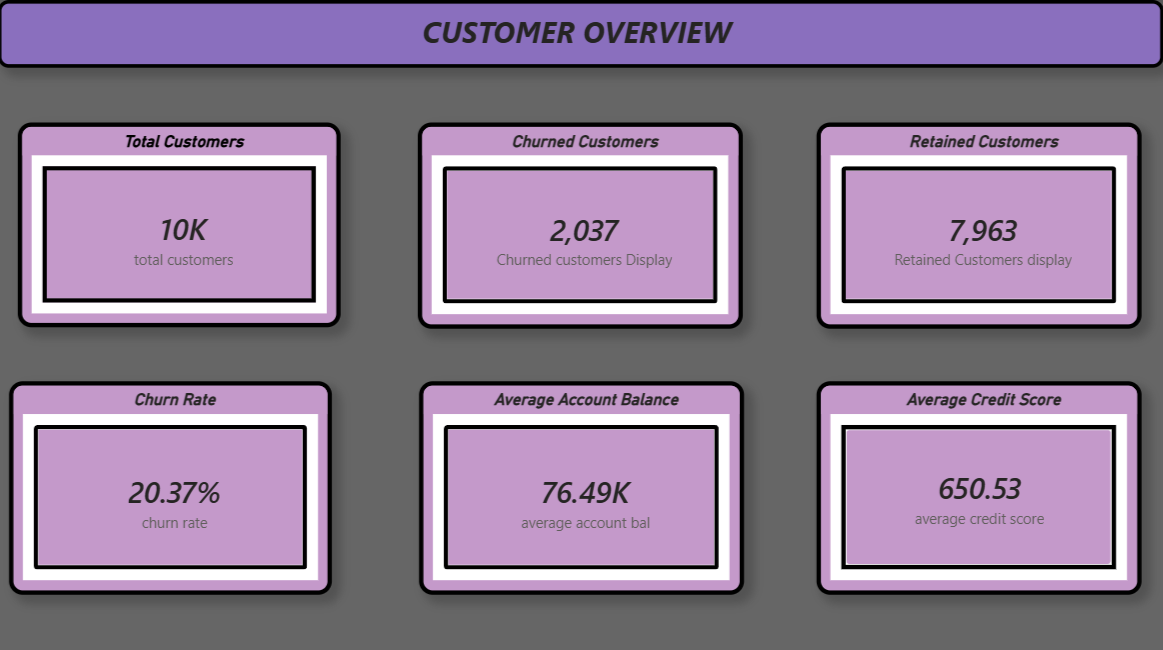

The page's visual inventory and layout, read from the dashboard file:
{"tool":"powerbi","page":{"name":"Overview","canvas":[1280,720],"ordinal":0},"visuals":[{"type":"cardVisual","title":"Churned Customers","fields":{"Data":["Bank Customers.Churned customers Display"]},"box":[461.1,134.5,356.8,226.4],"z":0},{"type":"cardVisual","title":"Retained Customers","fields":{"Data":["Bank Customers.retained Customers display"]},"box":[898.8,134.5,356.8,226.4],"z":1000},{"type":"cardVisual","title":"Total Customers","fields":{"Data":["Bank Customers.total customers"]},"box":[22,134.5,354,225],"z":2000},{"type":"cardVisual","title":"Churn Rate","fields":{"Data":["Bank Customers.churn rate"]},"box":[12.3,418.5,354,234.6],"z":3000},{"type":"cardVisual","title":"Average Credit Score","fields":{"Data":["Bank Customers.average credit score"]},"box":[898.8,418.5,356.8,234.6],"z":4000},{"type":"cardVisual","title":"Average Account Balance","fields":{"Data":["Bank Customers.average account bal"]},"box":[462.4,418.5,356.8,234.6],"z":5000},{"type":"textbox","box":[0,0,1280.3,74.1],"z":6000}]}

Visuals, with their boxes in screenshot pixels (x1, y1, x2, y2), scaled from the page's 1280x720 canvas onto the 1163x650 screenshot:
"Churned Customers" cardVisual: [419,121,743,326]
"Retained Customers" cardVisual: [817,121,1141,326]
"Total Customers" cardVisual: [20,121,342,325]
"Churn Rate" cardVisual: [11,378,333,590]
"Average Credit Score" cardVisual: [817,378,1141,590]
"Average Account Balance" cardVisual: [420,378,744,590]
textbox: [0,0,1162,67]
